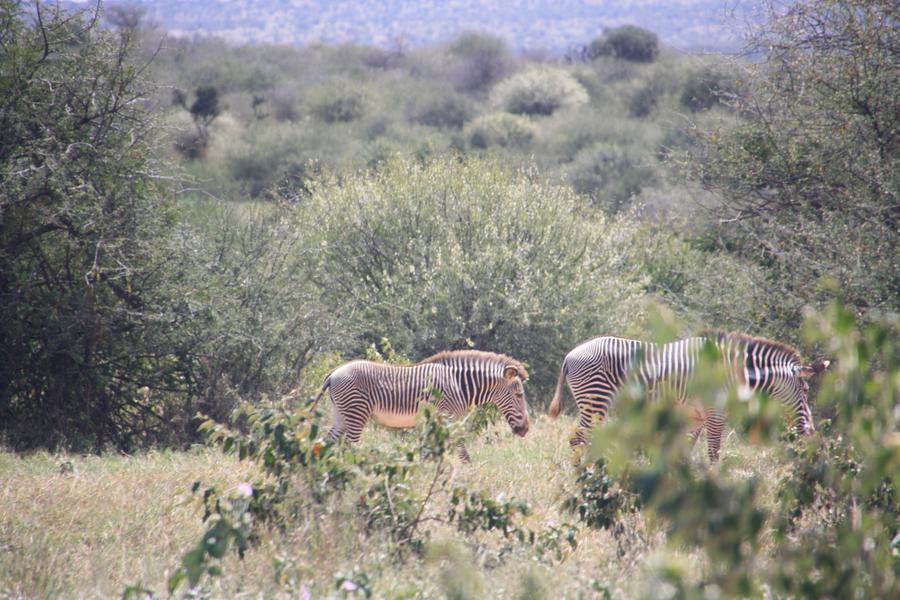zebra_grevys: (315, 345, 471, 425)
